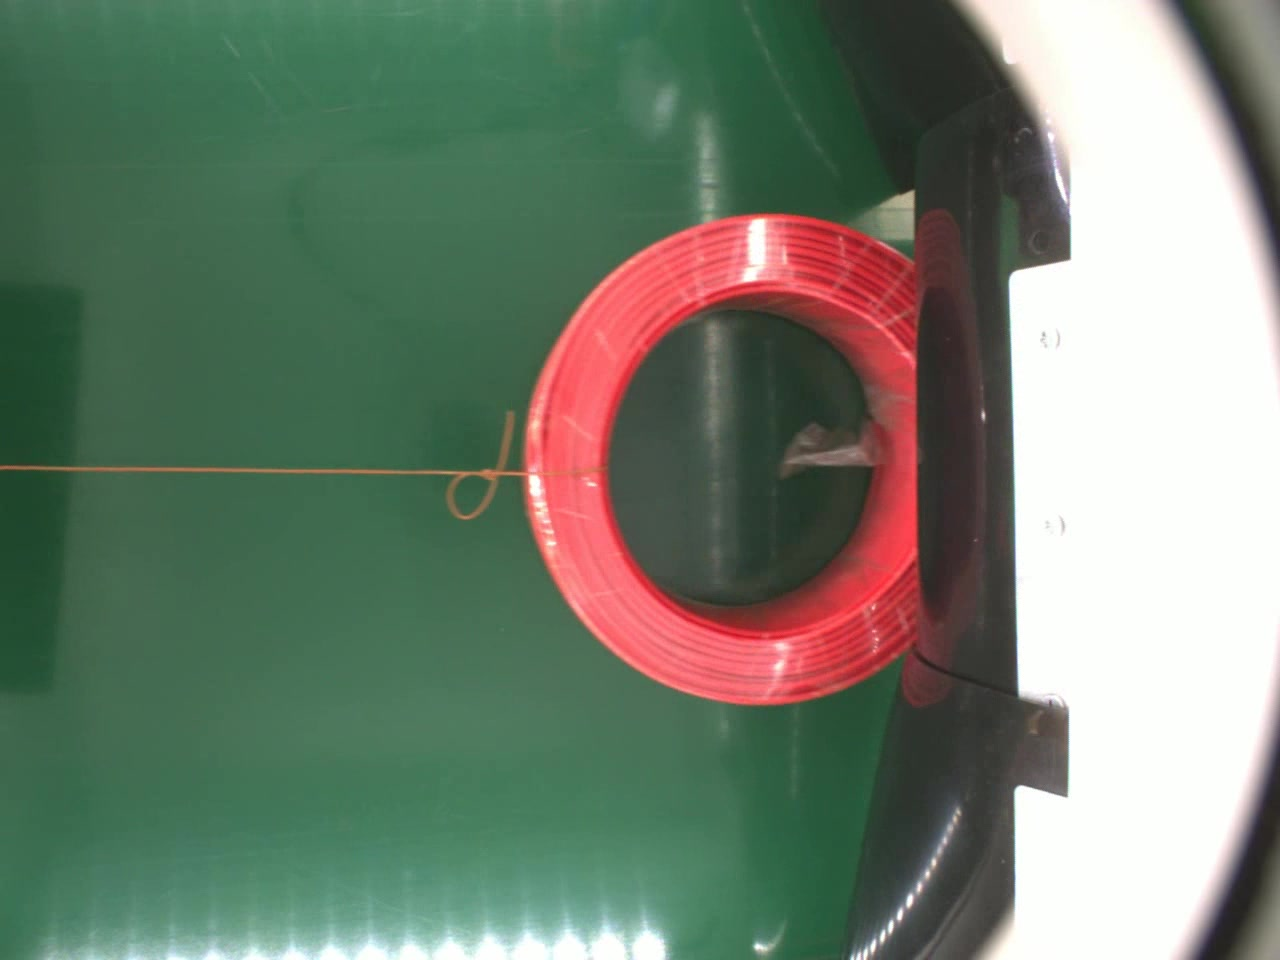red: (517, 213, 917, 704)
